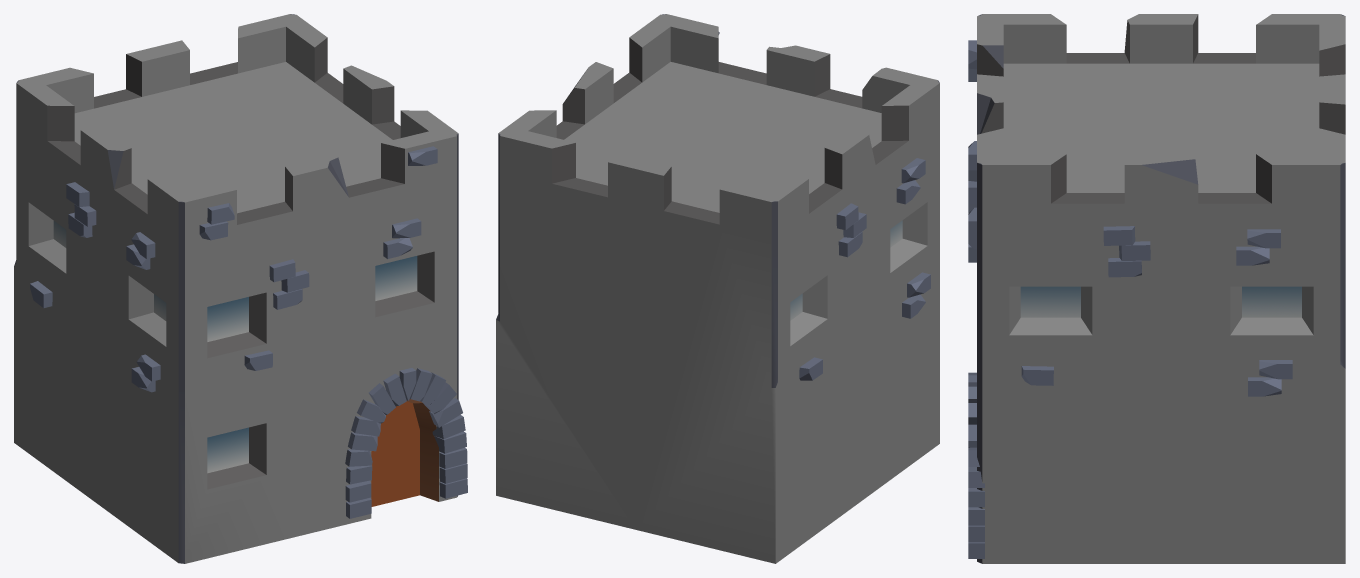
File: Level3_StoneCastle.fbx
3 views of the same model, side by side, from view 1: azimuth 30°, elevation 25°; view 2: azimuth 150°, elevation 25°; view 3: azimuth 270°, elevation 25° (orthographic). The views are drawn at different scales.
Visible parts, largest first — view 1: Cube.012; view 2: Cube.012; view 3: Cube.012.
Part boxes in pixels (x1,y1,x2,y2): Cube.012: [14, 14, 467, 563]; Cube.012: [496, 14, 939, 563]; Cube.012: [968, 14, 1345, 563].
Bounding box in the file's own units: 1200 × 1400 × 1200.
